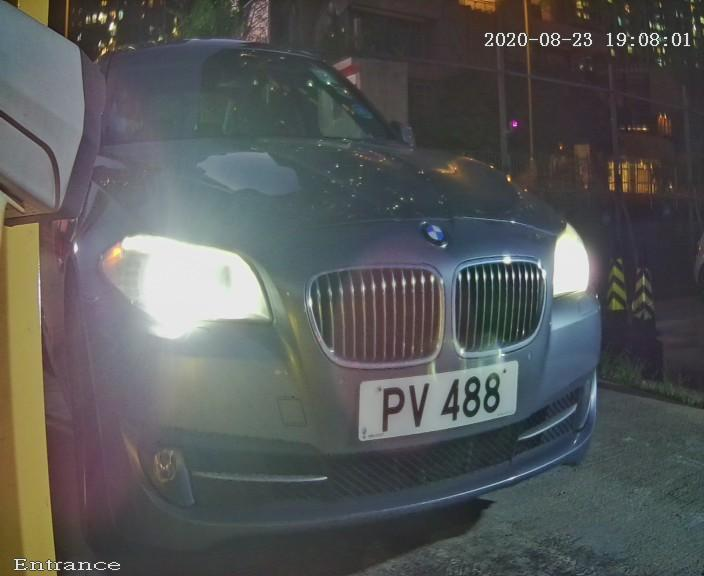License Plate: (330, 330, 539, 460)
